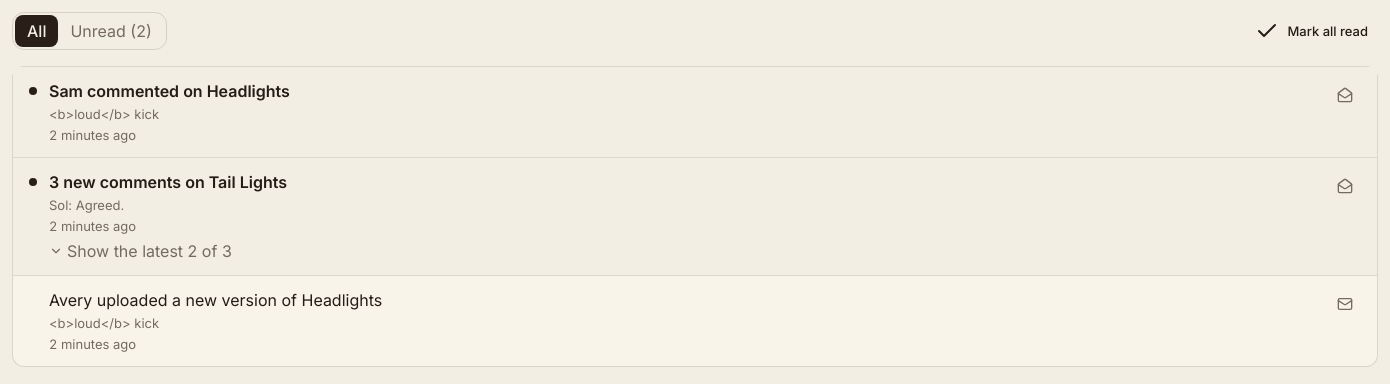
notification center (task 095) › filters to unread, and puts a change back when the server refuses it
Step 1. Click the button "Unread (2)" → [111, 31], box [58, 15, 164, 47]
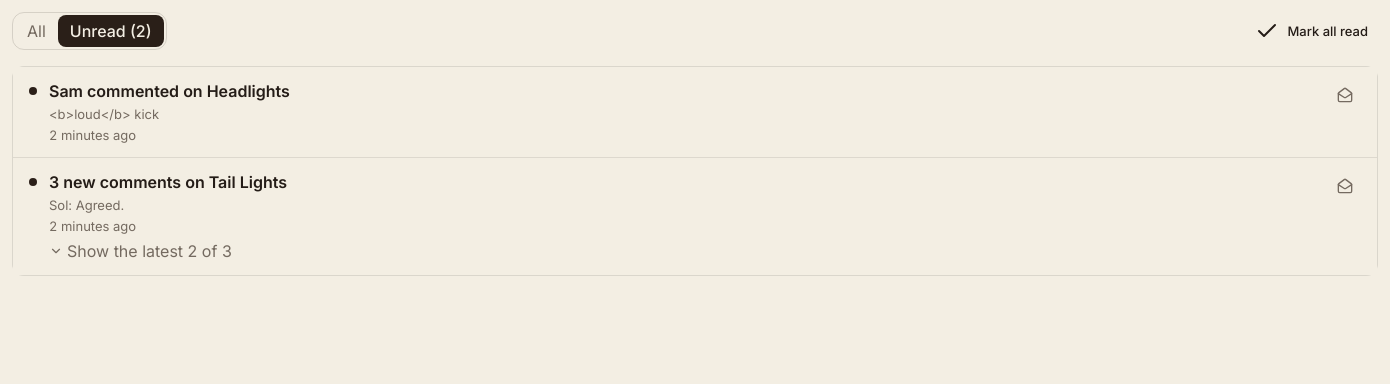
Result: the link "uploaded a new version" is gone
Step 2. Click the button "Mark all read" → [1312, 31], box [1245, 15, 1378, 47]
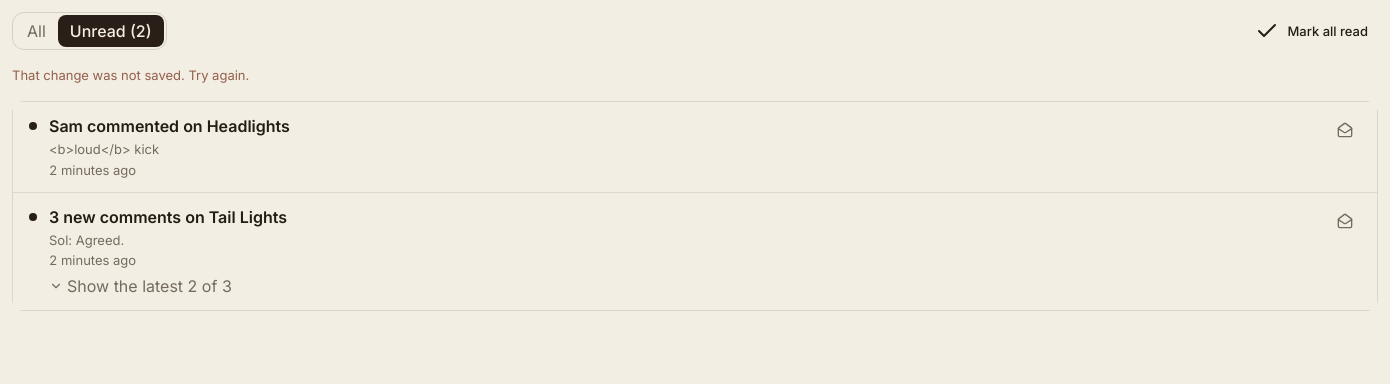
Expected: the button "Unread (2)" is shown, [58, 15, 164, 47]
Result: the message shows "That change was not saved." at [12, 67, 249, 83]
